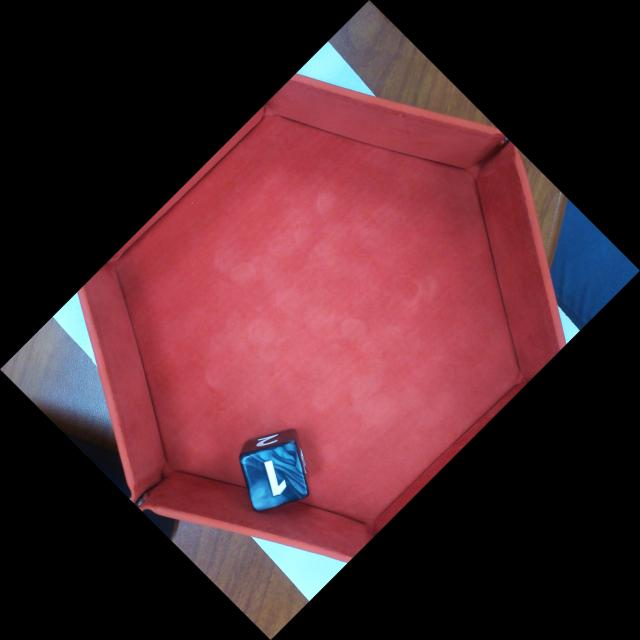dice: (245, 443, 313, 509)
